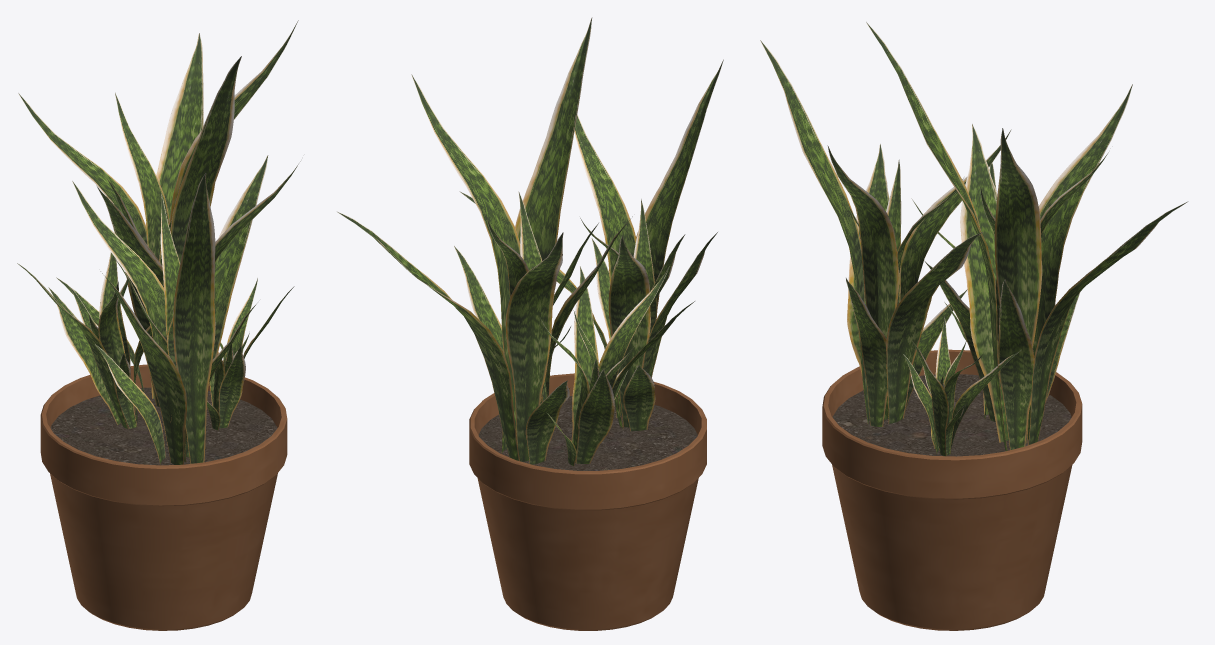
File: plant4.glb
3 renders of one model, left to right at view 1: azimuth 30°, elevation 25°; view 2: azimuth 150°, elevation 25°; view 3: azimuth 270°, elevation 25°, orthographic. The views are drawn at different scales.
Parts seen in each view (by area): view 1: SnakePlant_02; view 2: SnakePlant_02; view 3: SnakePlant_02.
Part boxes in pixels (x1,y1,x2,y2): SnakePlant_02: [17, 20, 300, 630]; SnakePlant_02: [337, 17, 723, 630]; SnakePlant_02: [760, 22, 1188, 630].
Bounding box in the file's own units: 0.3048 × 0.5633 × 0.3824.
3 materials, 3 textured.
